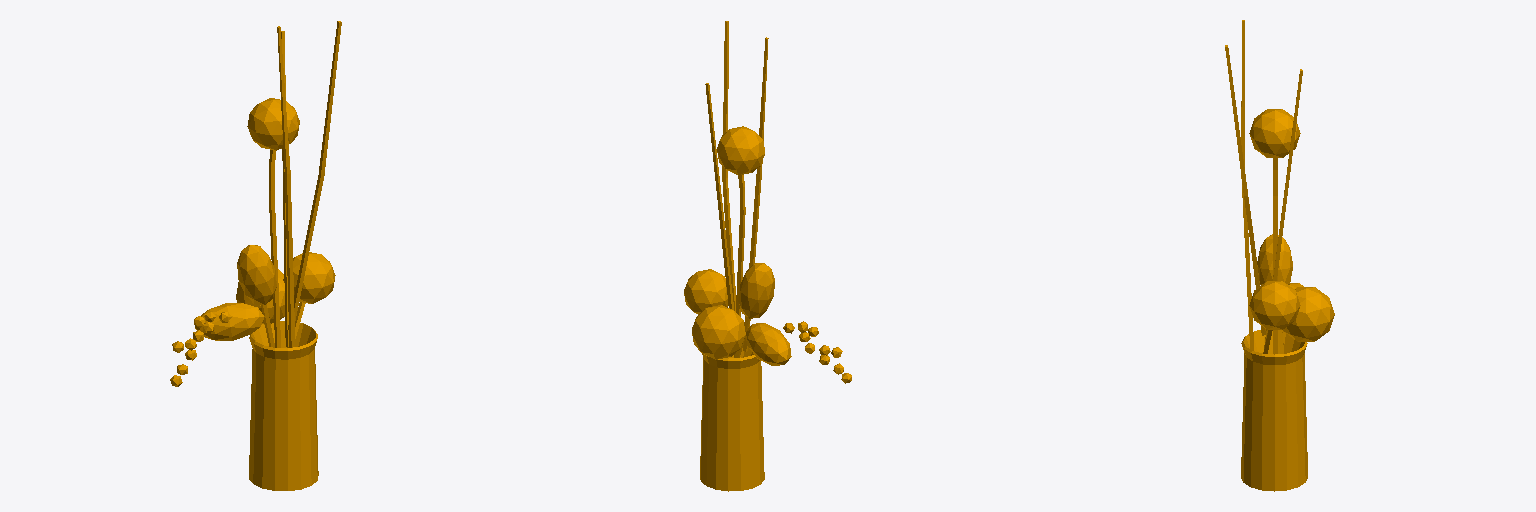
URDF robot description (flowerdecor):
<robot name="flowerdecor">
  <link name="flowerdecor">
    <inertial>
      <origin xyz="0 0 0.0145"/>
      <mass value="0.1" />
      <inertia  ixx="0.0001" ixy="0.0"  ixz="0.0"  iyy="0.0001"  iyz="0.0"  izz="0.0001" />
    </inertial>
    <visual>
      <origin xyz="0 0 0.0145"/>
      <geometry>        
     <mesh filename="flowerdecor.dae" scale="1 1 1"/>
    </geometry>
    </visual>
    <collision>
      <origin xyz="0 0 0.0145"/>
      <geometry>
        <box size="0.029 0.029 0.029"/>
      </geometry>
    </collision>
  </link>
  <gazebo reference="flowerdecor">
    <material>Gazebo/Blue</material>
  </gazebo>
</robot>

--- Facts derived from the render (not from the file) ---
Views: 3 orthographic renders of the robot side by side, from view 1: azimuth 30°, elevation 25°; view 2: azimuth 150°, elevation 25°; view 3: azimuth 270°, elevation 25°.
Model flowerdecor with 1 links and 0 joints (none), rooted at flowerdecor, posed every joint at zero.
Links seen in each view (by area): view 1: flowerdecor; view 2: flowerdecor; view 3: flowerdecor.
Boxes of the visible links, bbox=[...] form: flowerdecor: bbox=[170, 21, 341, 490]; flowerdecor: bbox=[684, 21, 851, 491]; flowerdecor: bbox=[1225, 20, 1334, 491].
Bounding box of the posed robot: 0.0991 × 0.0588 × 0.2634 m (x, y, z).
1 mesh visuals loaded from 1 distinct referenced files (1 Collada DAE).